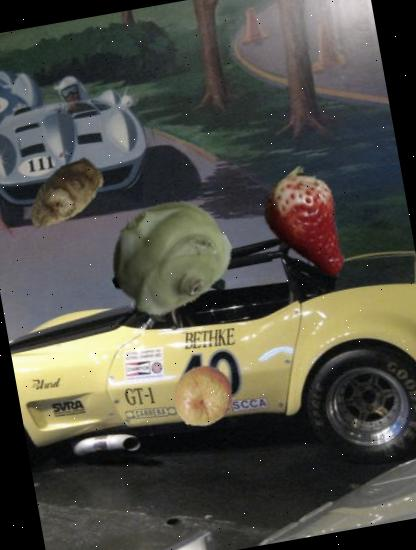Ginger: (14, 144, 116, 246)
Kohlrabi: (98, 185, 238, 326)
Mandarine: (166, 360, 240, 434)
Strawberry: (249, 160, 378, 289)
